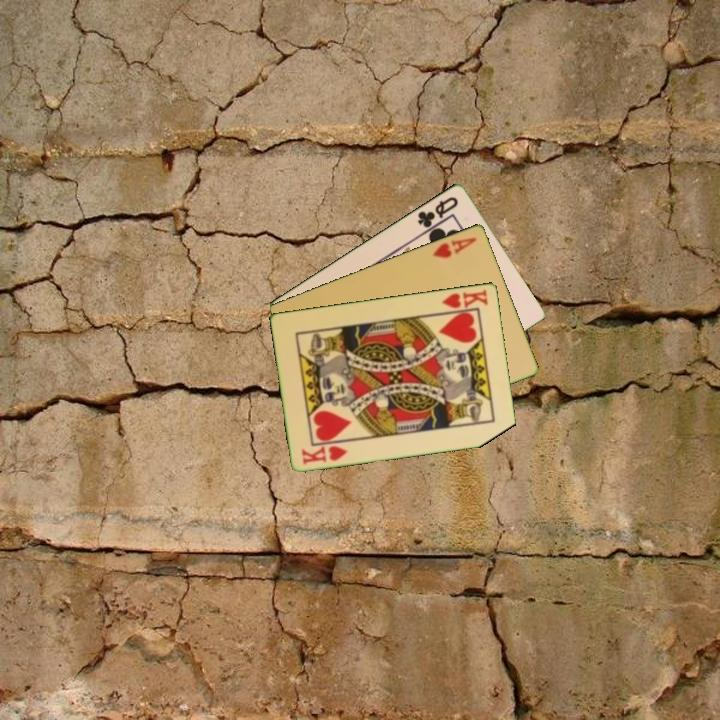Ah: (429, 233, 480, 261)
Kh: (437, 286, 491, 315), (298, 442, 351, 467)
Qc: (414, 193, 461, 230)
